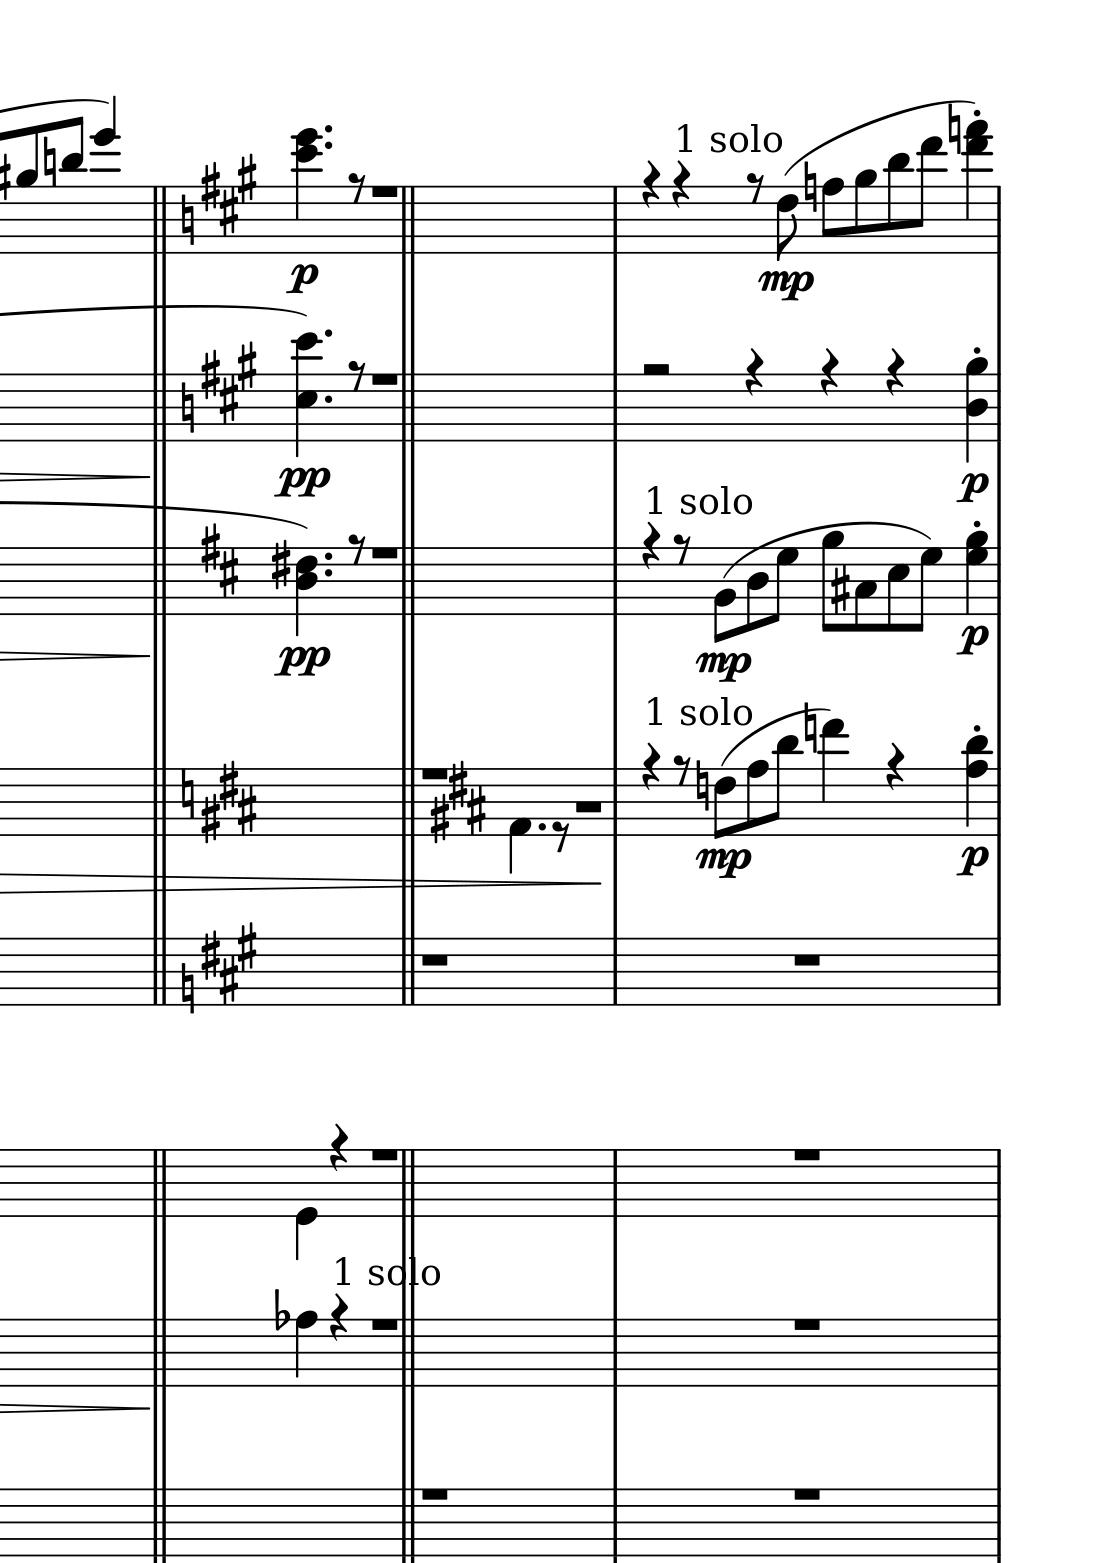4_0: (293, 1148, 316, 1260)
4_1: (506, 765, 532, 875)
4_10_12: (289, 126, 322, 255)
4_13: (91, 94, 122, 254), (818, 718, 847, 837)
4_13_15: (961, 117, 995, 257)
4_4_6: (294, 547, 319, 639)
4_4_9: (965, 354, 991, 468)
4_5_12: (288, 331, 322, 456)
4_7_9: (964, 529, 989, 618)
4_8: (294, 1309, 318, 1390)
4_8_11: (961, 733, 991, 837)
8_11: (61, 115, 87, 255), (768, 733, 801, 837), (884, 152, 910, 256)
8_13: (914, 136, 944, 255)
8_2: (712, 547, 735, 640)
8_3: (851, 547, 877, 635)
8_4: (745, 547, 768, 631)
8_5: (884, 547, 909, 634)
8_6: (774, 184, 799, 262), (712, 767, 735, 839)
8_7: (911, 545, 942, 633), (769, 547, 798, 625)
8_8: (819, 176, 844, 256), (744, 759, 768, 838)
8_9: (14, 128, 39, 256), (820, 529, 845, 630), (853, 167, 877, 256)
A_S: (199, 920, 260, 1006), (199, 758, 258, 843), (199, 154, 258, 238), (200, 342, 257, 426), (431, 761, 488, 842)
D_S: (199, 523, 242, 602)
Double_barline: (393, 938, 423, 1006), (393, 1489, 423, 1556), (145, 1488, 173, 1553), (146, 1318, 173, 1386), (393, 374, 421, 441), (393, 548, 421, 615), (146, 768, 172, 836), (393, 1318, 420, 1386), (146, 374, 172, 441), (146, 548, 172, 615), (146, 938, 172, 1005), (146, 1149, 172, 1216), (393, 1149, 420, 1216), (395, 768, 420, 836), (147, 187, 172, 254), (395, 187, 420, 254)
Flat: (271, 1286, 289, 1333)
Natural: (176, 960, 199, 1016), (176, 380, 197, 436), (177, 767, 196, 822), (178, 193, 196, 249), (946, 100, 964, 157), (41, 134, 57, 190), (694, 759, 709, 813), (802, 701, 817, 758), (801, 160, 816, 215)
Rests1: (789, 1313, 825, 1335), (789, 1483, 824, 1504), (417, 950, 452, 970), (417, 1484, 452, 1504), (789, 950, 825, 969), (789, 1144, 825, 1164), (415, 763, 448, 783), (367, 1314, 401, 1335), (366, 1144, 399, 1164), (367, 182, 399, 201), (367, 370, 399, 389), (367, 543, 399, 562)
Rests2: (636, 356, 674, 381), (569, 794, 605, 818)
Rests4: (741, 344, 765, 397), (883, 344, 906, 397), (883, 740, 906, 792), (639, 741, 661, 793), (328, 1122, 350, 1173), (670, 159, 692, 209), (818, 344, 840, 397), (640, 158, 661, 208), (328, 1293, 349, 1343), (640, 523, 661, 570)
Rests8: (346, 359, 367, 393), (550, 817, 572, 851), (346, 171, 367, 204), (744, 170, 765, 203), (346, 533, 367, 566), (672, 532, 692, 564), (672, 755, 689, 788)
Sharp: (269, 538, 292, 591), (829, 562, 849, 615)
Single_barline: (604, 374, 625, 441), (605, 187, 625, 254), (604, 1488, 624, 1555), (606, 769, 625, 836), (605, 1319, 624, 1386), (605, 548, 624, 613), (605, 1150, 624, 1216), (989, 1149, 1007, 1217), (988, 1319, 1006, 1387), (606, 938, 624, 1005), (988, 1489, 1006, 1555), (989, 938, 1006, 1006), (989, 187, 1006, 254), (990, 374, 1007, 440), (990, 547, 1006, 615), (990, 769, 1006, 836)
Solo: (707, 122, 783, 155), (680, 484, 753, 518), (365, 1256, 442, 1287), (677, 696, 753, 727)
dot: (322, 548, 334, 564), (320, 138, 334, 152), (322, 392, 335, 407), (322, 122, 334, 136), (322, 326, 334, 341), (322, 564, 334, 579), (536, 820, 547, 834)
mp: (756, 265, 817, 305), (694, 648, 753, 685), (692, 845, 753, 881)
p: (956, 842, 991, 883), (283, 261, 320, 297), (957, 621, 990, 659), (956, 468, 988, 505)
pp: (273, 642, 331, 680), (274, 463, 331, 500)
